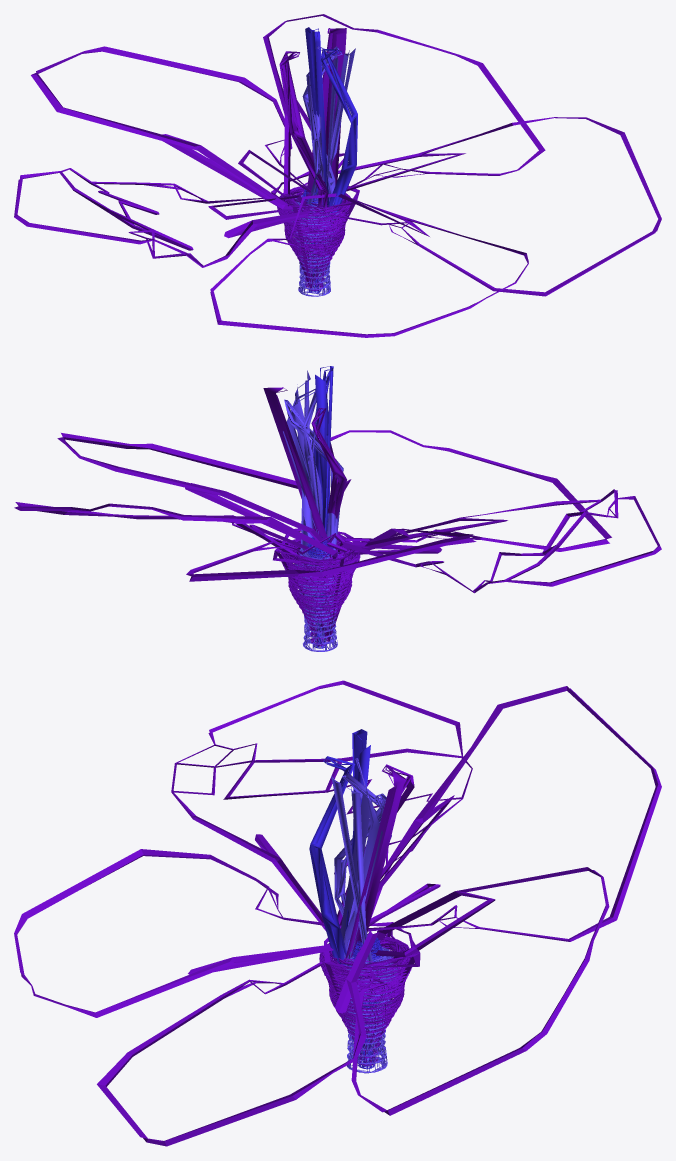
Rendered from quaresmeira_wireframe.glb.
3 views of the same model, one above another, from view 1: azimuth 30°, elevation 25°; view 2: azimuth 150°, elevation 25°; view 3: azimuth 270°, elevation 25° (orthographic). The views are drawn at different scales.
Visible parts, largest first — view 1: QUARESMEIRA; view 2: QUARESMEIRA; view 3: QUARESMEIRA.
Part boxes in pixels (x1,y1,x2,y2): QUARESMEIRA: (14,14,661,337); QUARESMEIRA: (14,366,661,651); QUARESMEIRA: (14,680,661,1146).
Bounding box in the file's own units: 2.75 × 1.2 × 2.11.
